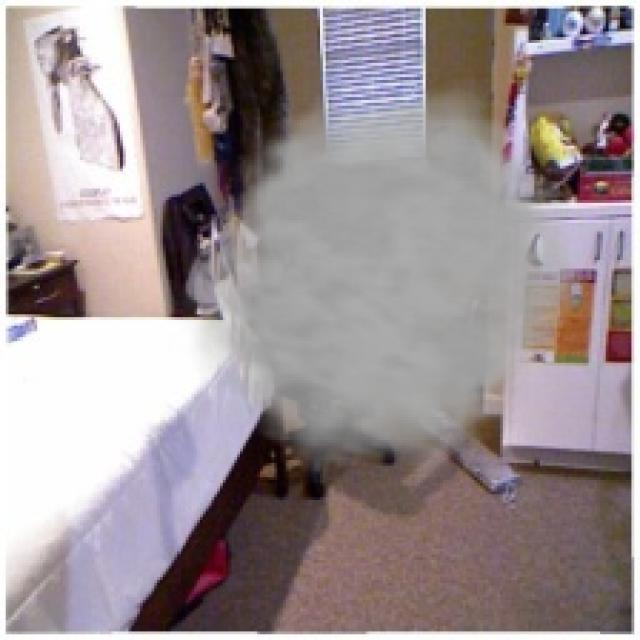smoke: (168, 72, 592, 477)
